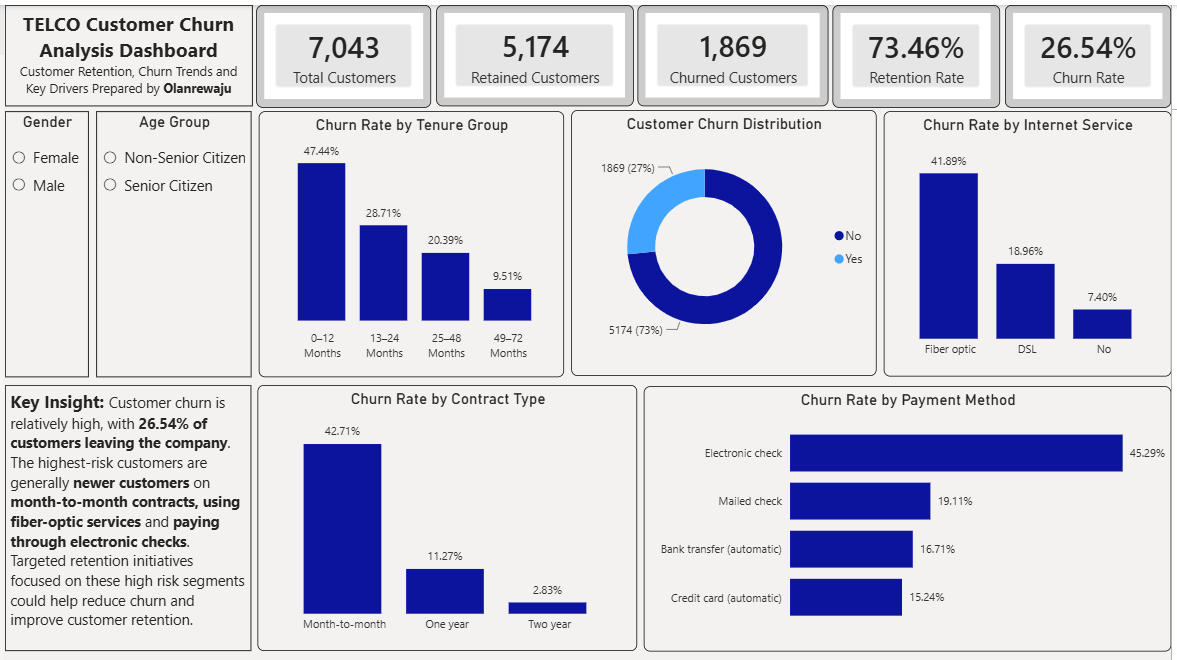

The dashboard page shown, as its layout file describes it:
{"tool":"powerbi","page":{"name":"Page 1","canvas":[1280,720],"ordinal":0},"visuals":[{"type":"cardVisual","fields":{"Data":["WA_Fn-UseC_-Telco-Customer-Churn.Total Customers"]},"box":[276.3,0,192.1,112.5],"z":0},{"type":"cardVisual","fields":{"Data":["WA_Fn-UseC_-Telco-Customer-Churn.Churn Customers"]},"box":[694.4,0,209.9,111.1],"z":1000},{"type":"cardVisual","fields":{"Data":["WA_Fn-UseC_-Telco-Customer-Churn.Retained Customers"]},"box":[473,0,216.8,111.1],"z":2000},{"type":"cardVisual","fields":{"Data":["WA_Fn-UseC_-Telco-Customer-Churn.Churn Rate"]},"box":[1097.5,0,182.5,112.5],"z":3000},{"type":"cardVisual","fields":{"Data":["WA_Fn-UseC_-Telco-Customer-Churn.Retention Rate"]},"box":[909,0,183.9,112.5],"z":4000},{"type":"donutChart","title":"Customer Churn Distribution","fields":{"Y":["CountNonNull(WA_Fn-UseC_-Telco-Customer-Churn.customerID)"],"Category":["WA_Fn-UseC_-Telco-Customer-Churn.Churn"]},"box":[621.5,115.3,334.8,292.3],"z":4003},{"type":"clusteredColumnChart","title":"Churn Rate by Contract Type","fields":{"Y":["WA_Fn-UseC_-Telco-Customer-Churn.Churn Rate"],"Category":["WA_Fn-UseC_-Telco-Customer-Churn.Contract"]},"box":[277.2,417.2,417.2,292.3],"z":4004},{"type":"clusteredColumnChart","fields":{"Y":["WA_Fn-UseC_-Telco-Customer-Churn.Churn Rate"],"Category":["WA_Fn-UseC_-Telco-Customer-Churn.InternetService"]},"box":[964.4,116.6,315.6,290.9],"z":4005},{"type":"clusteredBarChart","fields":{"Y":["WA_Fn-UseC_-Telco-Customer-Churn.Churn Rate"],"Category":["WA_Fn-UseC_-Telco-Customer-Churn.PaymentMethod"]},"box":[700.9,418.5,579.1,290.9],"z":4006},{"type":"clusteredColumnChart","fields":{"Y":["WA_Fn-UseC_-Telco-Customer-Churn.Churn Rate"],"Category":["WA_Fn-UseC_-Telco-Customer-Churn.Tenure Group"]},"box":[278.3,116.6,335,292],"z":4007},{"type":"listSlicer","fields":{"Values":["WA_Fn-UseC_-Telco-Customer-Churn.gender"]},"box":[0,116.6,91.9,292.3],"z":4008},{"type":"listSlicer","fields":{"Values":["WA_Fn-UseC_-Telco-Customer-Churn.Age Group"]},"box":[100.1,116.6,170.2,292.3],"z":4009},{"type":"textbox","box":[0,0,271.7,111.1],"z":4010},{"type":"textbox","box":[0,417.2,270.3,292.3],"z":4011}]}

Visuals, with their boxes in screenshot pixels (x1, y1, x2, y2), scaled from the page's 1280x720 canvas onto the 1177x660 screenshot:
cardVisual - WA_Fn-UseC_-Telco-Customer-Churn.Total Customers: (x1=254, y1=0, x2=431, y2=103)
cardVisual - WA_Fn-UseC_-Telco-Customer-Churn.Churn Customers: (x1=639, y1=0, x2=832, y2=102)
cardVisual - WA_Fn-UseC_-Telco-Customer-Churn.Retained Customers: (x1=435, y1=0, x2=634, y2=102)
cardVisual - WA_Fn-UseC_-Telco-Customer-Churn.Churn Rate: (x1=1009, y1=0, x2=1176, y2=103)
cardVisual - WA_Fn-UseC_-Telco-Customer-Churn.Retention Rate: (x1=836, y1=0, x2=1005, y2=103)
"Customer Churn Distribution" donutChart: (x1=571, y1=106, x2=879, y2=374)
"Churn Rate by Contract Type" clusteredColumnChart: (x1=255, y1=382, x2=639, y2=650)
clusteredColumnChart - WA_Fn-UseC_-Telco-Customer-Churn.Churn Rate x WA_Fn-UseC_-Telco-Customer-Churn.InternetService: (x1=887, y1=107, x2=1176, y2=374)
clusteredBarChart - WA_Fn-UseC_-Telco-Customer-Churn.Churn Rate x WA_Fn-UseC_-Telco-Customer-Churn.PaymentMethod: (x1=644, y1=384, x2=1176, y2=650)
clusteredColumnChart - WA_Fn-UseC_-Telco-Customer-Churn.Churn Rate x WA_Fn-UseC_-Telco-Customer-Churn.Tenure Group: (x1=256, y1=107, x2=564, y2=375)
listSlicer - WA_Fn-UseC_-Telco-Customer-Churn.gender: (x1=0, y1=107, x2=85, y2=375)
listSlicer - WA_Fn-UseC_-Telco-Customer-Churn.Age Group: (x1=92, y1=107, x2=249, y2=375)
textbox: (x1=0, y1=0, x2=250, y2=102)
textbox: (x1=0, y1=382, x2=249, y2=650)
